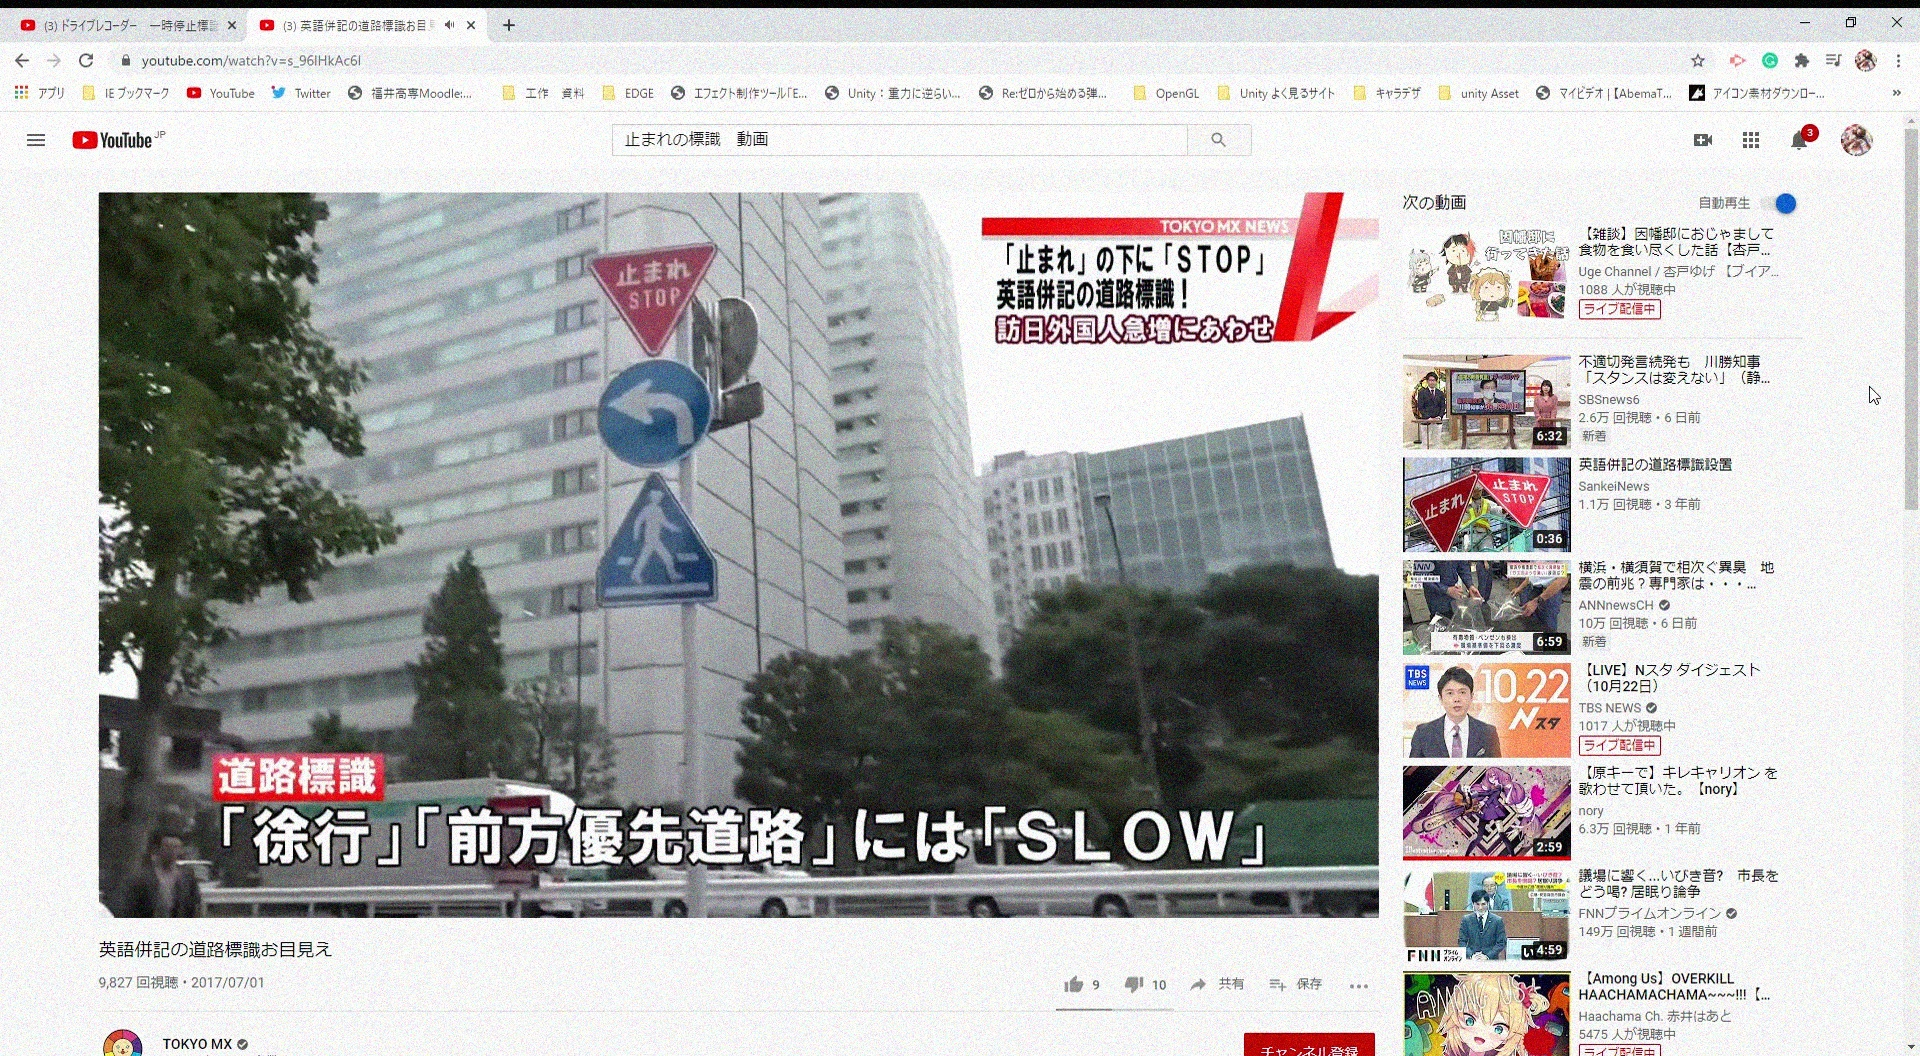Regulatory_sign_triangle: (593, 247, 734, 358)
